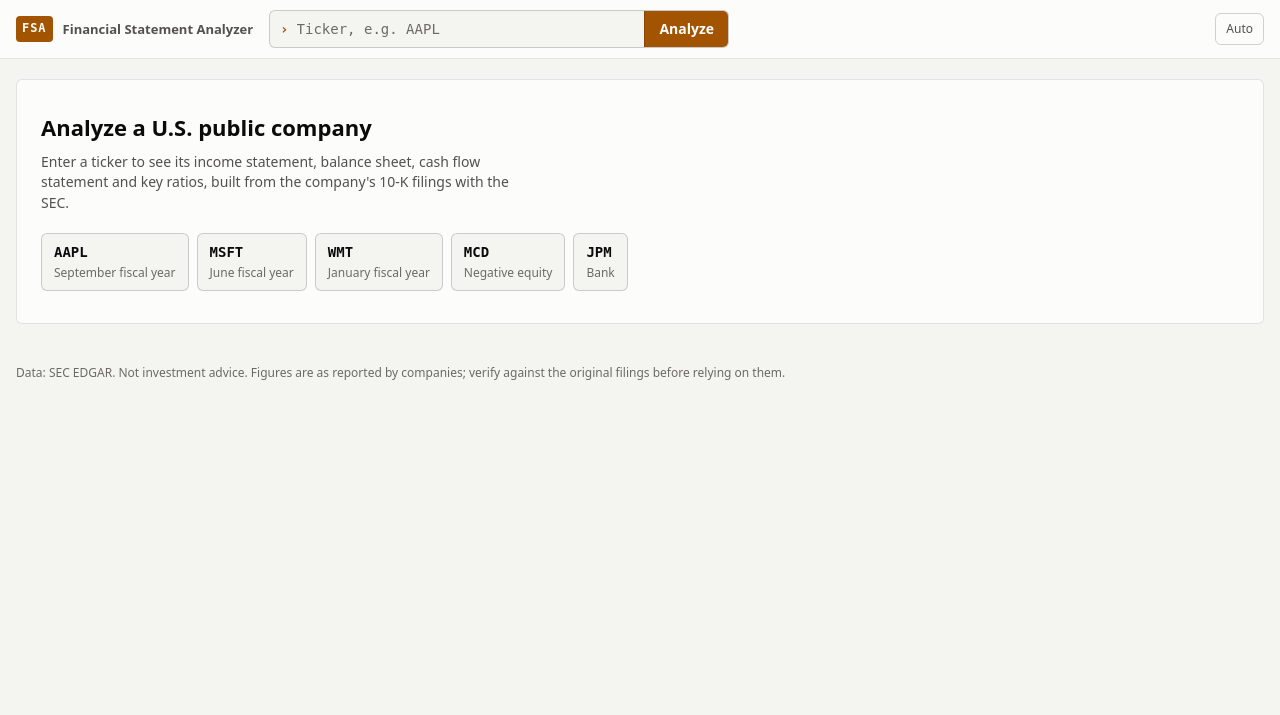
App › shows loading, then the dashboard with pipeline numbers
Type "exmp" into the field named "Company ticker". click: coordinates (466, 29)
box: left=288, top=13, right=644, bottom=45
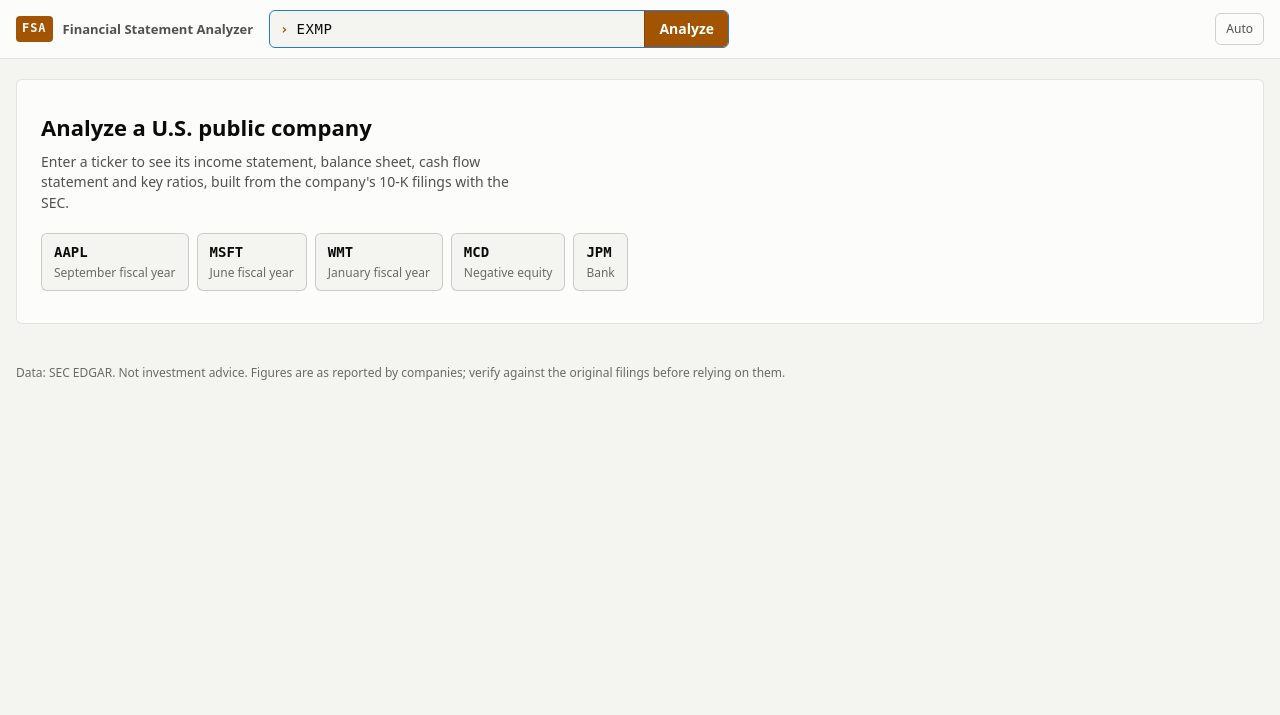
Click the button "Analyze". click: coordinates (686, 29)
box: left=644, top=11, right=728, bottom=47
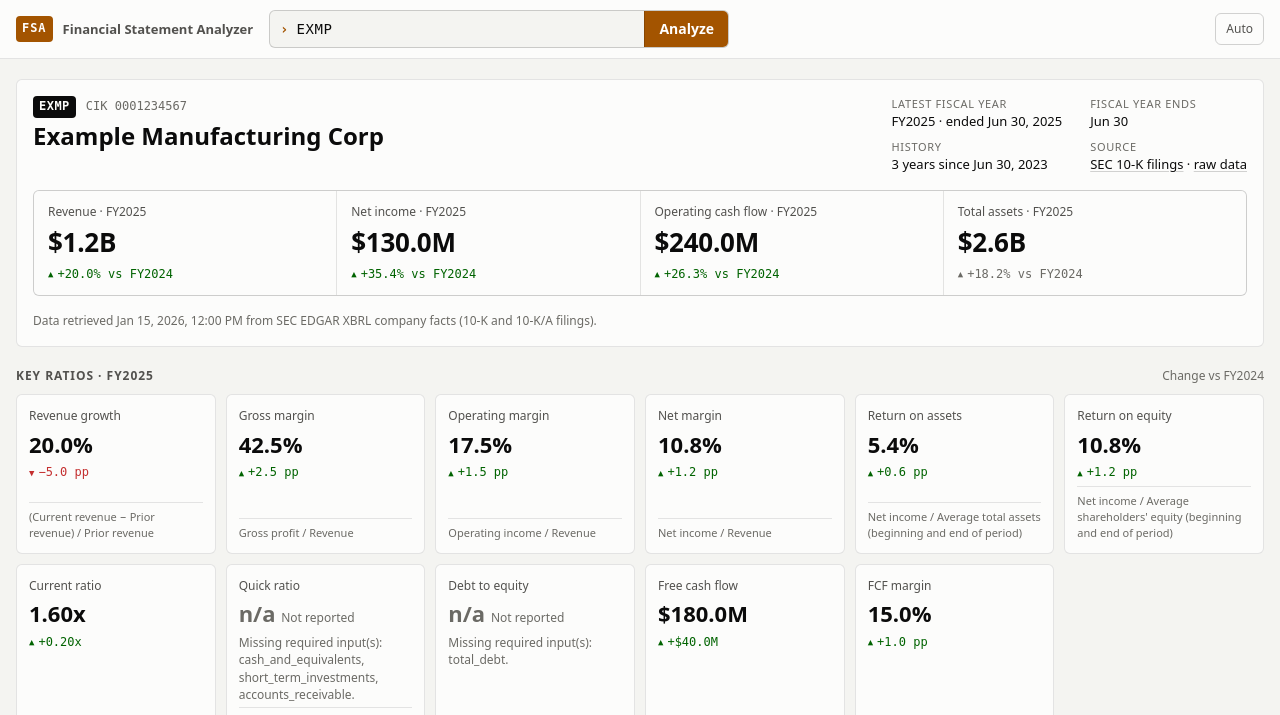
Check: the heading "Example Manufacturing Corp" is shown, box left=33, top=122, right=384, bottom=150
Check: the text "$1.2B" is shown, box left=48, top=224, right=116, bottom=260
Check: the text "▲ +20.0% vs FY2024" is shown, box left=47, top=267, right=173, bottom=289
